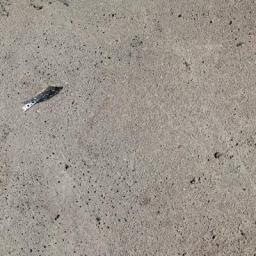FOD: (18, 84, 66, 113)
